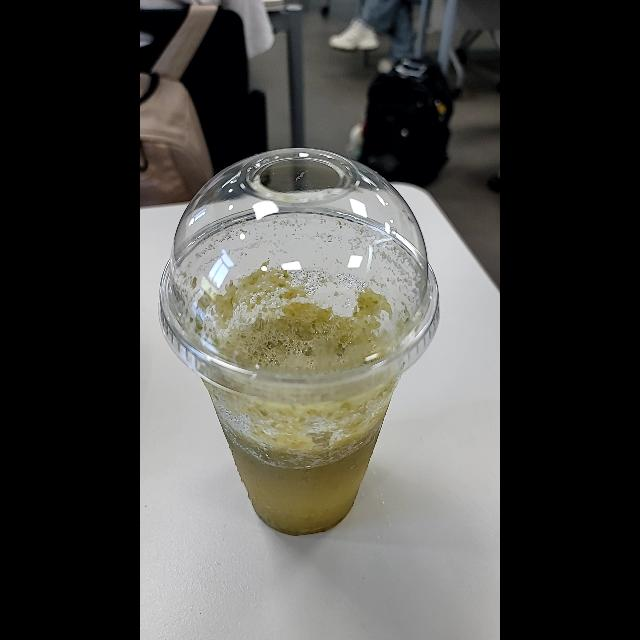plastic_cup: (156, 144, 444, 536)
plastic_cup_lid: (157, 144, 453, 410)
